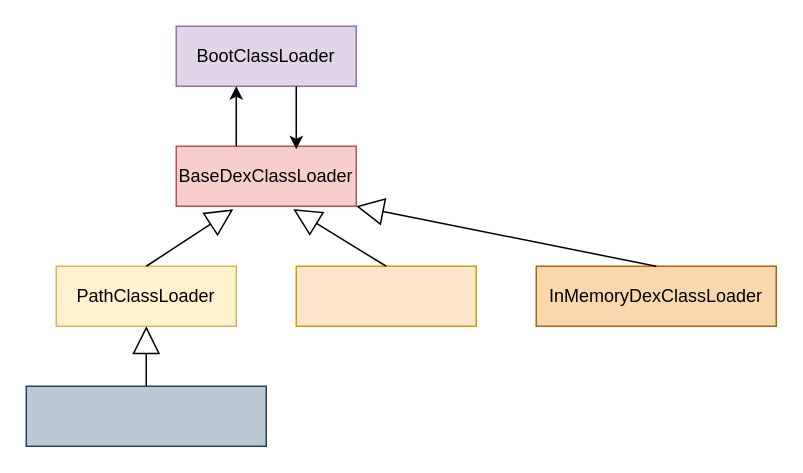
This 803x473 diagram has some shape labels left out. The shapes that lost their labels are listed below. From the top down, each one's centre as x and y in pixels, then its label:
At (x=385, y=295): "DexClassLoader".
At (x=145, y=415): "DelegateLastClassLoader".
